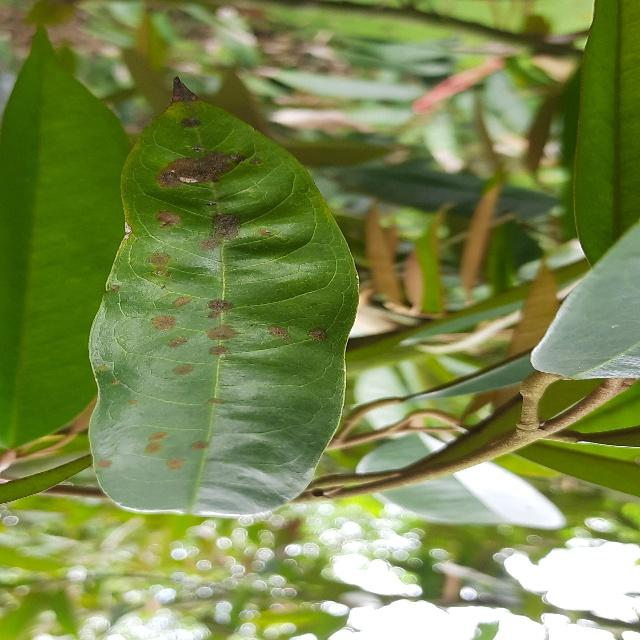Algal Leaf Spot: (82, 69, 367, 525)
